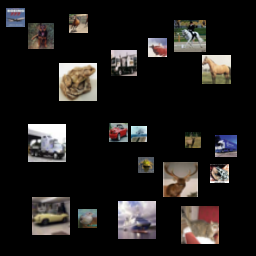airplane: (148, 38, 167, 57), (6, 8, 25, 27), (131, 126, 147, 142)
automobile: (32, 197, 70, 235), (109, 123, 128, 142)
bird: (78, 209, 97, 228)
cat: (181, 206, 219, 244)
deer: (163, 162, 198, 197), (185, 132, 201, 148)
dog: (28, 23, 54, 49)
frog: (59, 63, 97, 101), (210, 164, 229, 183), (138, 157, 154, 173)
ship: (118, 201, 156, 239)
